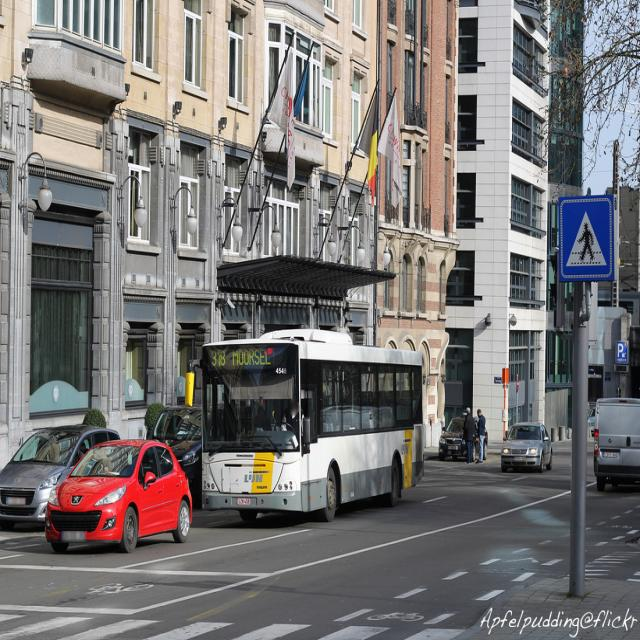bus-number: (210, 350, 227, 367)
